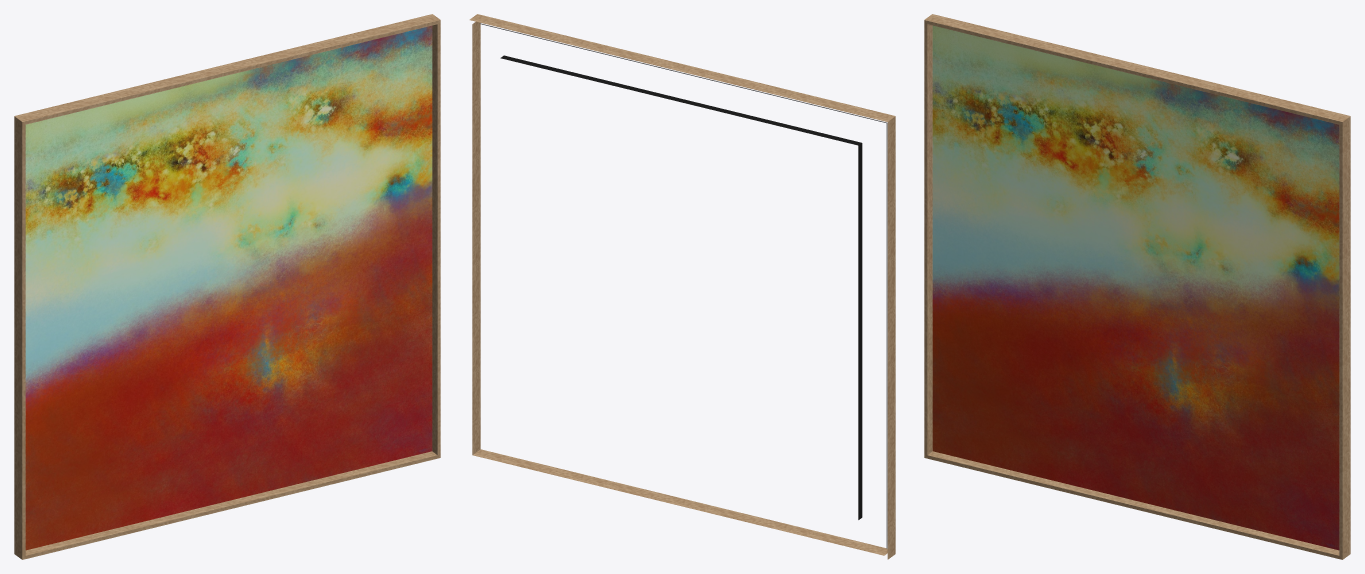
File: va273_grand_caisse-chene.glb
The picture shows the model from 3 angles, left to right: view 1: azimuth 30°, elevation 25°; view 2: azimuth 150°, elevation 25°; view 3: azimuth 330°, elevation 25°; orthographic projection.
Visible parts, largest first — view 1: va273_grand_caisse-chene; view 2: va273_grand_caisse-chene; view 3: va273_grand_caisse-chene.
Boxes of the visible parts, x1,y1,x2,y2 form: va273_grand_caisse-chene: (14, 14, 440, 559); va273_grand_caisse-chene: (469, 14, 895, 559); va273_grand_caisse-chene: (924, 14, 1350, 559).
Size of the model in its own units: 1.03 by 1.03 by 0.035.
4 materials, 2 textured.
